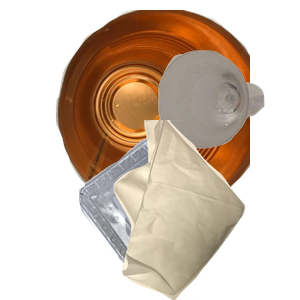glass: (156, 48, 300, 189)
metal: (53, 10, 293, 190)
plastic: (77, 133, 289, 300)
trash: (111, 120, 300, 300)
